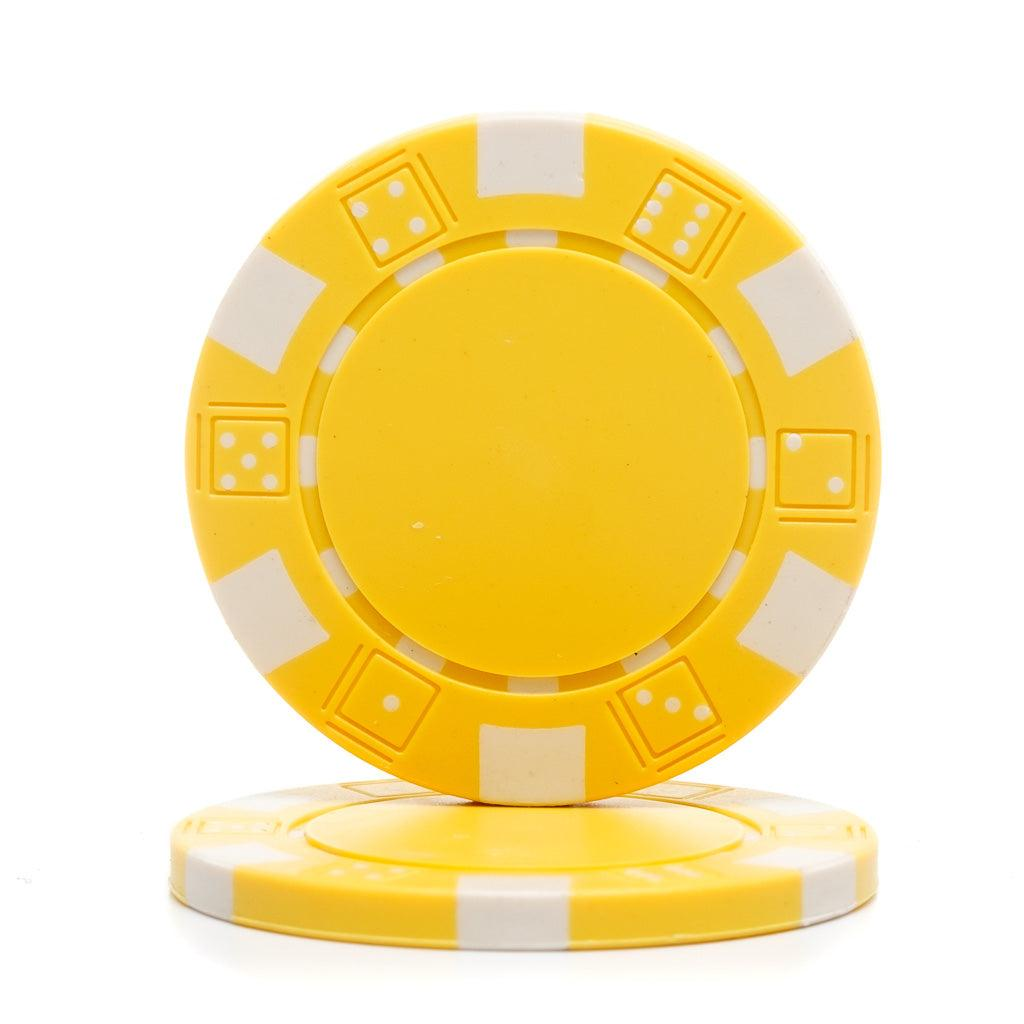chip-yellow: (186, 114, 878, 805), (170, 780, 878, 950)
